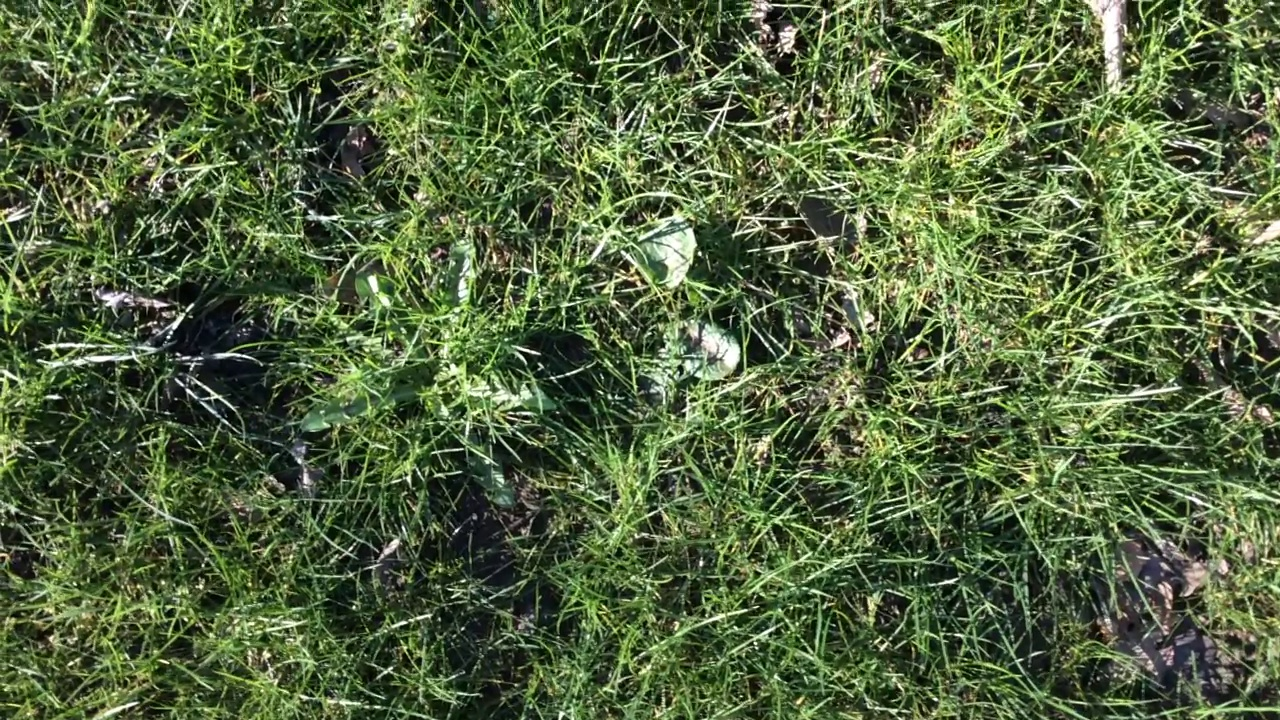rumex: (638, 212, 697, 289), (665, 322, 739, 380)
